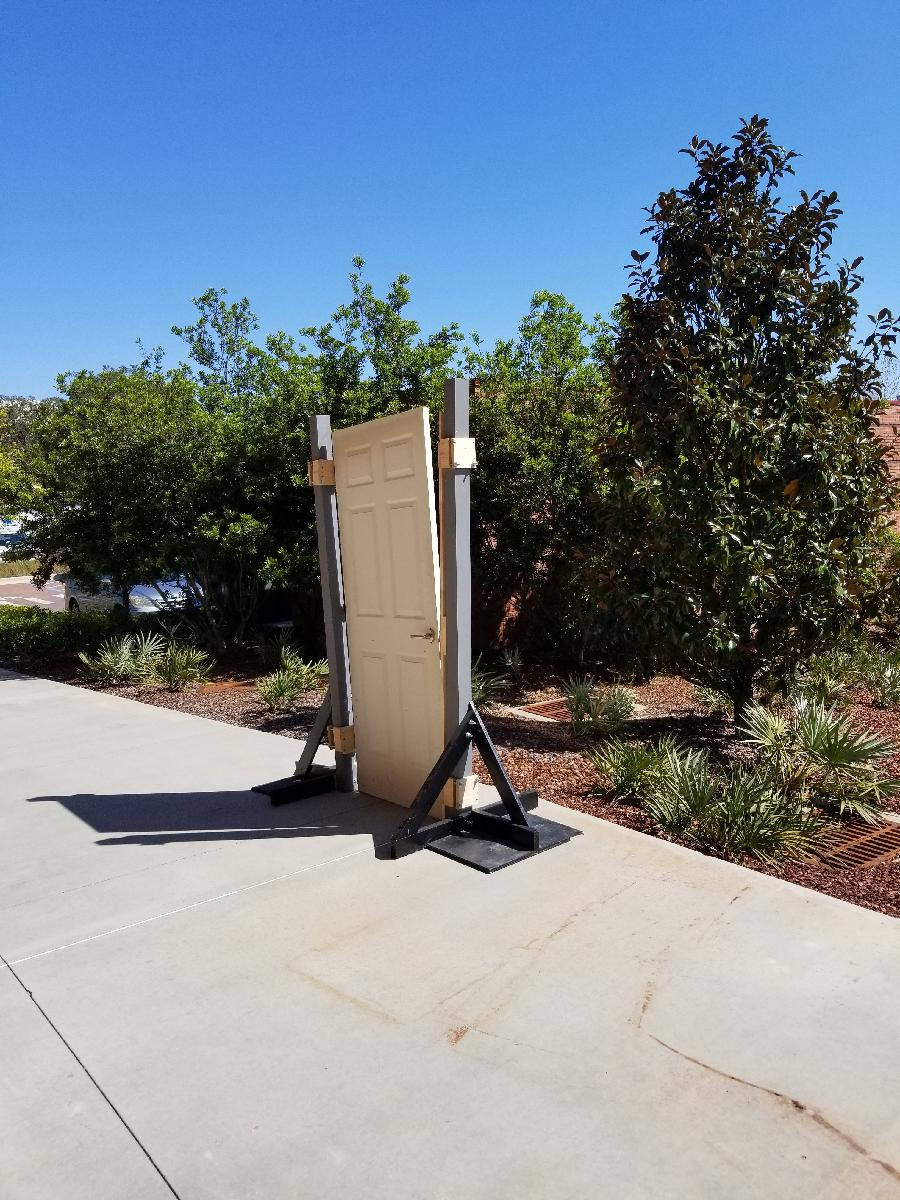door: (329, 405, 458, 825)
doorHandle: (408, 623, 436, 651)
